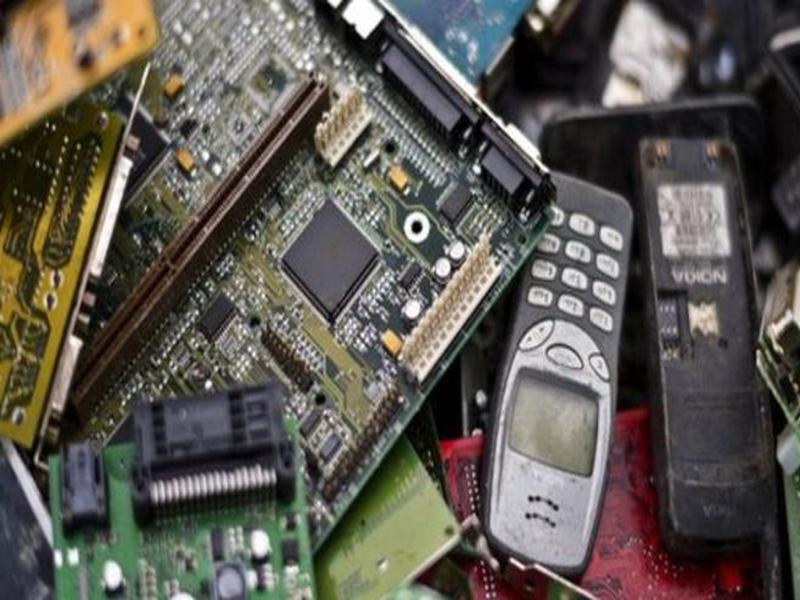circuit_board: (107, 1, 550, 553), (127, 381, 345, 600), (1, 98, 131, 465)
